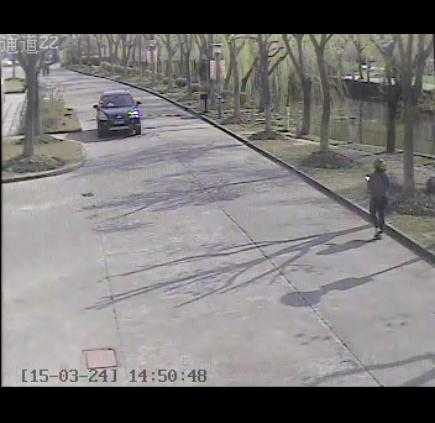person: (363, 154, 392, 243)
